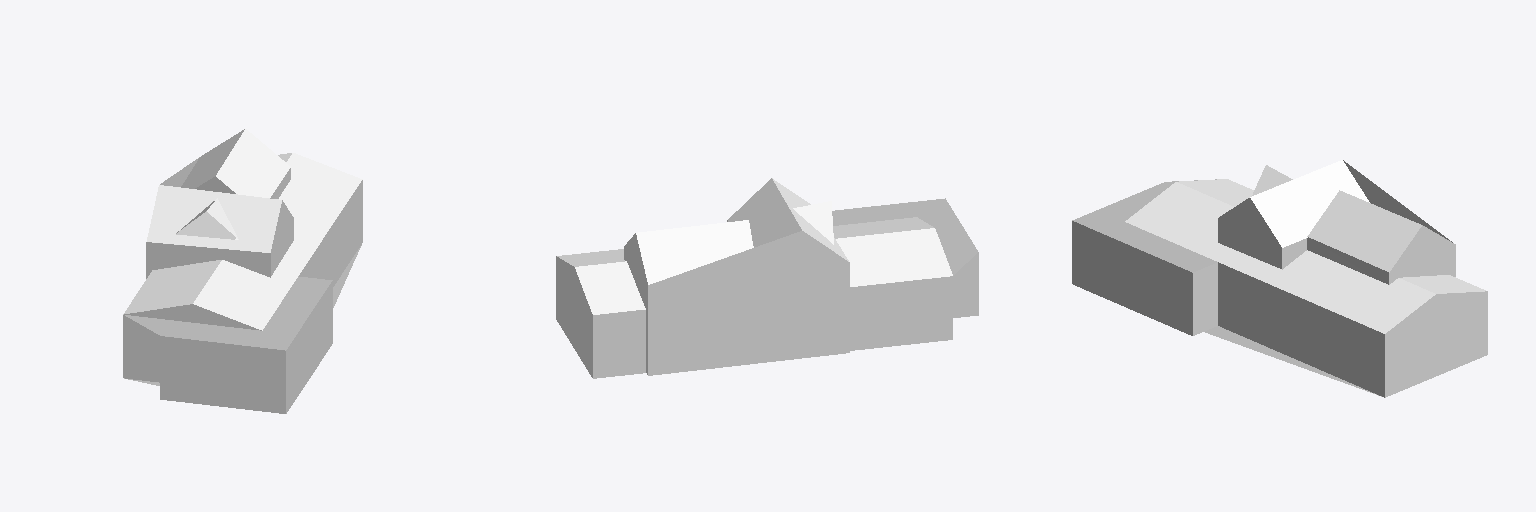
The model's file is house_Shape 313.obj.
3 renders of one model, left to right at view 1: azimuth 30°, elevation 25°; view 2: azimuth 150°, elevation 25°; view 3: azimuth 270°, elevation 25°, orthographic.
Visible parts, largest first — view 1: CityEngineMaterial_12, CityEngineMaterial_25, CityEngineMaterial_24, CityEngineMaterial_211, CityEngineMaterial_212; view 2: CityEngineMaterial_12, CityEngineMaterial_25, CityEngineMaterial_211, CityEngineMaterial_212, CityEngineMaterial_24; view 3: CityEngineMaterial_12, CityEngineMaterial_211, CityEngineMaterial_25, CityEngineMaterial_212, CityEngineMaterial_24, CityEngineMaterial_210.
Part boxes in pixels (bbox=[...]): CityEngineMaterial_12: bbox=[123, 129, 362, 330]; CityEngineMaterial_25: bbox=[123, 233, 332, 413]; CityEngineMaterial_24: bbox=[125, 276, 332, 350]; CityEngineMaterial_211: bbox=[124, 176, 362, 330]; CityEngineMaterial_212: bbox=[146, 157, 293, 269]; CityEngineMaterial_12: bbox=[557, 178, 952, 314]; CityEngineMaterial_25: bbox=[633, 252, 978, 375]; CityEngineMaterial_211: bbox=[556, 256, 952, 378]; CityEngineMaterial_212: bbox=[570, 220, 849, 298]; CityEngineMaterial_24: bbox=[832, 198, 977, 275]; CityEngineMaterial_12: bbox=[1125, 160, 1485, 333]; CityEngineMaterial_211: bbox=[1218, 262, 1487, 397]; CityEngineMaterial_25: bbox=[1072, 221, 1455, 335]; CityEngineMaterial_212: bbox=[1218, 160, 1455, 304]; CityEngineMaterial_24: bbox=[1072, 179, 1216, 272]; CityEngineMaterial_210: bbox=[1205, 326, 1381, 396].
Bounding box in the file's own units: 19.51 × 7.53 × 22.08.